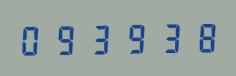eight: (183, 18, 215, 54)
nine: (50, 21, 82, 56), (117, 20, 149, 55)
three: (84, 20, 116, 56), (150, 19, 182, 54)
zero: (17, 21, 49, 57)
